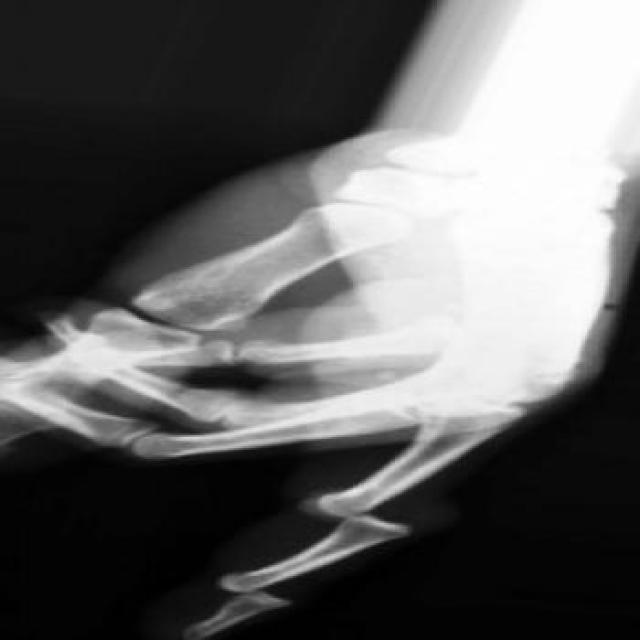Fracture: (306, 482, 442, 549), (201, 562, 302, 617)
